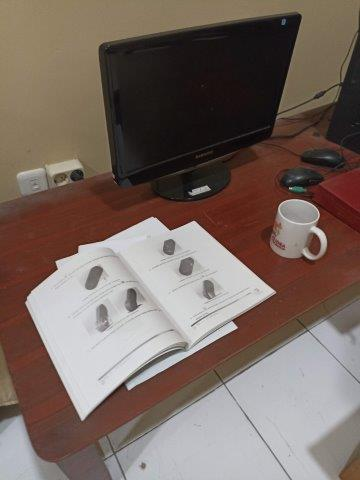kertas: (25, 217, 276, 421)
